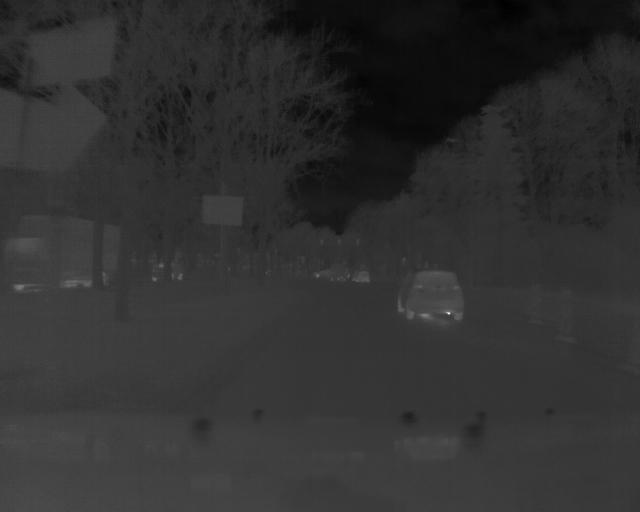car: (396, 267, 465, 326)
